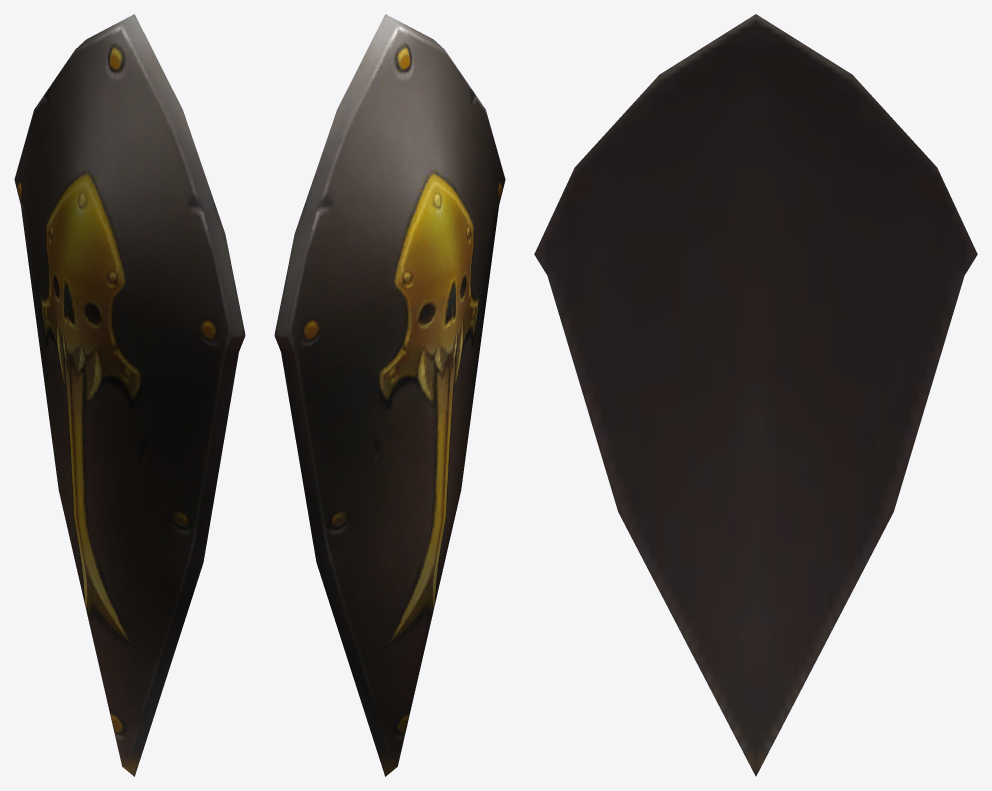
The model's file is shield14_544fd606.glb.
3 renders of one model, left to right at view 1: azimuth 30°, elevation 25°; view 2: azimuth 150°, elevation 25°; view 3: azimuth 270°, elevation 25°, orthographic.
Size of the model in its own units: 0.1525 by 1.6 by 0.8408.
Materials: 1 (1 with a texture image).
